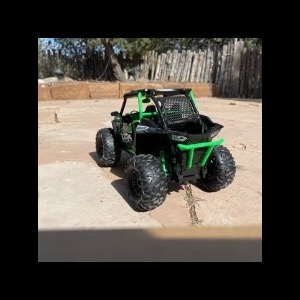polaris: (95, 87, 237, 213)
